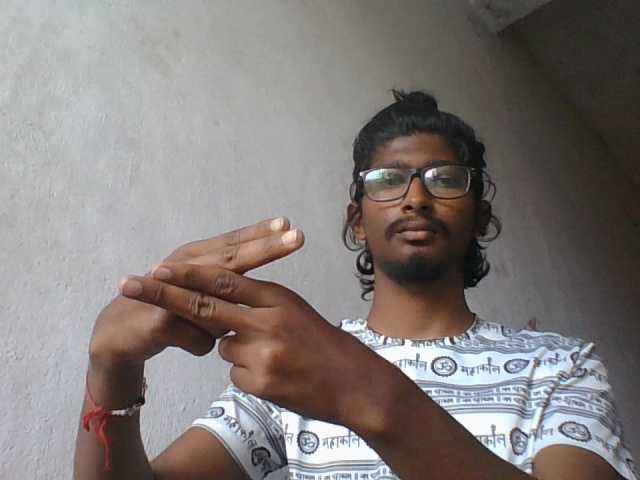Call: (80, 212, 404, 430)
